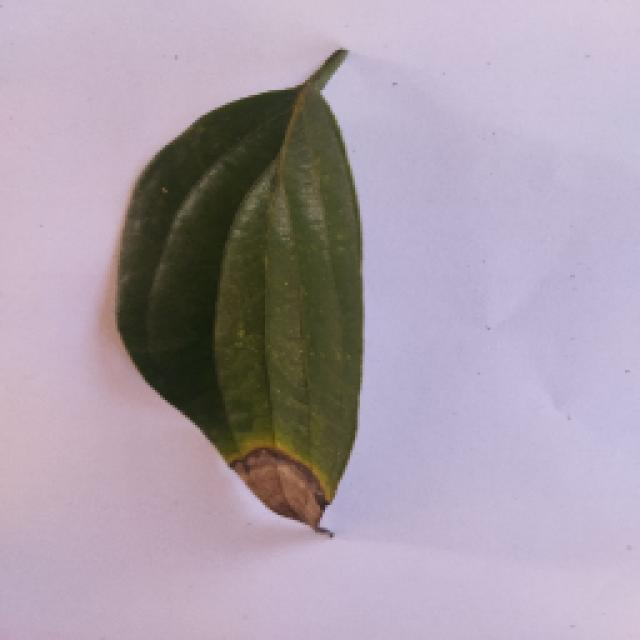footrot: (108, 50, 368, 538)
